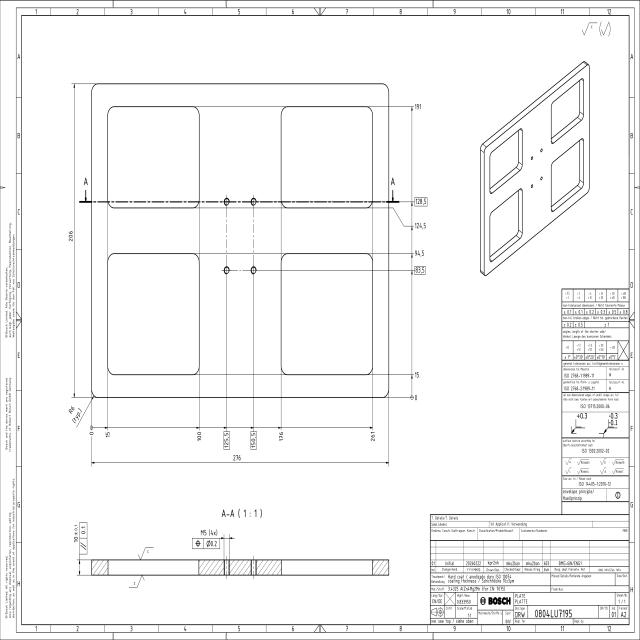dimension: (67, 402, 83, 424), (199, 528, 218, 537), (250, 430, 258, 450), (222, 431, 230, 450), (414, 197, 428, 207), (414, 265, 426, 276), (73, 523, 79, 545), (413, 221, 427, 230), (414, 248, 425, 258), (232, 453, 242, 462), (68, 229, 74, 243), (413, 102, 422, 111), (196, 430, 202, 442), (278, 431, 284, 443), (370, 431, 376, 442), (414, 370, 420, 380), (105, 430, 111, 439), (413, 393, 418, 402), (88, 431, 95, 436)
